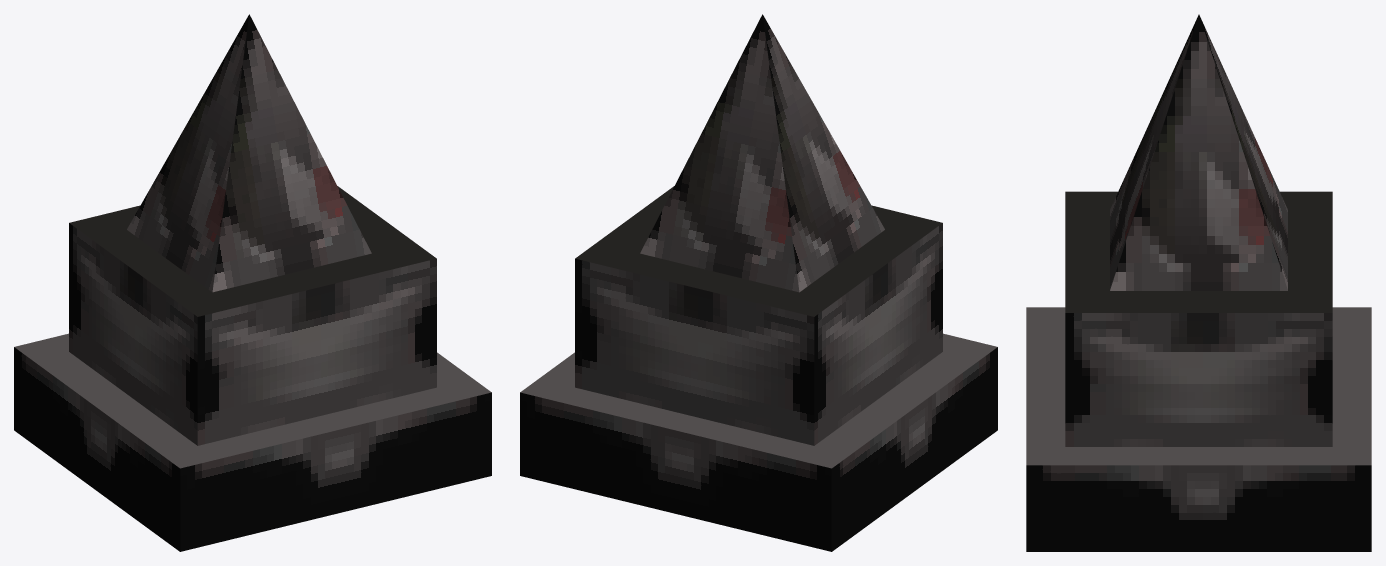
Rendered from Building_ShardBeacon.obj.
The picture shows the model from 3 angles, left to right: view 1: azimuth 30°, elevation 25°; view 2: azimuth 150°, elevation 25°; view 3: azimuth 270°, elevation 25°; orthographic projection. The views are drawn at different scales.
Visible parts, largest first — view 1: Body; view 2: Body; view 3: Body.
Part boxes in pixels (x1,y1,x2,y2): Body: [14, 14, 491, 551]; Body: [520, 14, 997, 551]; Body: [1026, 14, 1371, 551].
Bounding box in the file's own units: 0.6719 × 0.9062 × 0.62.
Materials: 1 (1 with a texture image).
